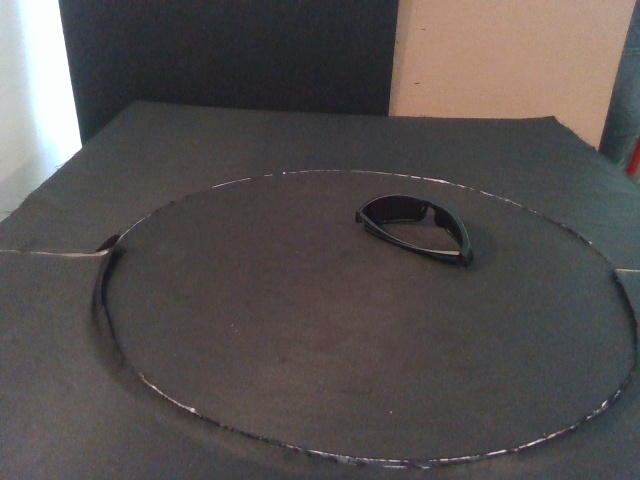glasses: (353, 190, 475, 269)
